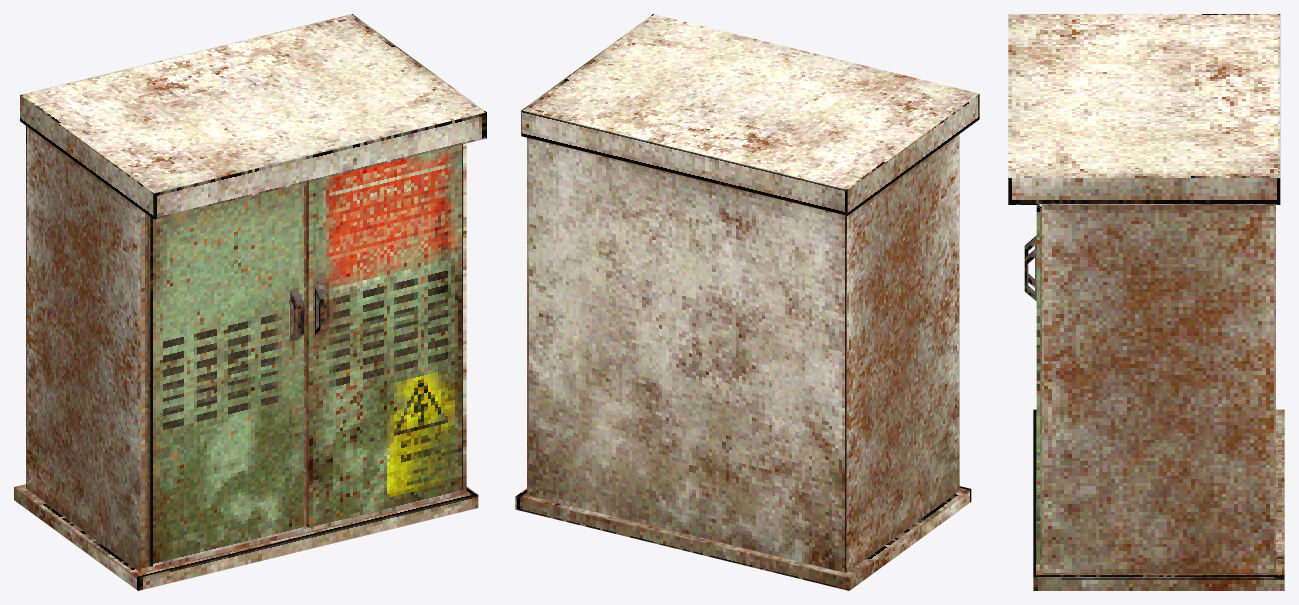
The model's file is Roadside_Junction_Box_002.glb.
3 views of the same model, side by side, from view 1: azimuth 30°, elevation 25°; view 2: azimuth 150°, elevation 25°; view 3: azimuth 270°, elevation 25° (orthographic). The views are drawn at different scales.
Parts seen in each view (by area): view 1: Roadside_Junction_Box_002; view 2: Roadside_Junction_Box_002; view 3: Roadside_Junction_Box_002.
Boxes of the visible parts, <box> form: Roadside_Junction_Box_002: <box>14,14,486,590</box>; Roadside_Junction_Box_002: <box>515,14,979,590</box>; Roadside_Junction_Box_002: <box>1008,14,1284,590</box>.
Bounding box in the file's own units: 1.36 × 1.55 × 0.945.
1 material, 1 textured.
